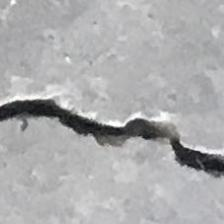Crack: (0, 67, 224, 183)
